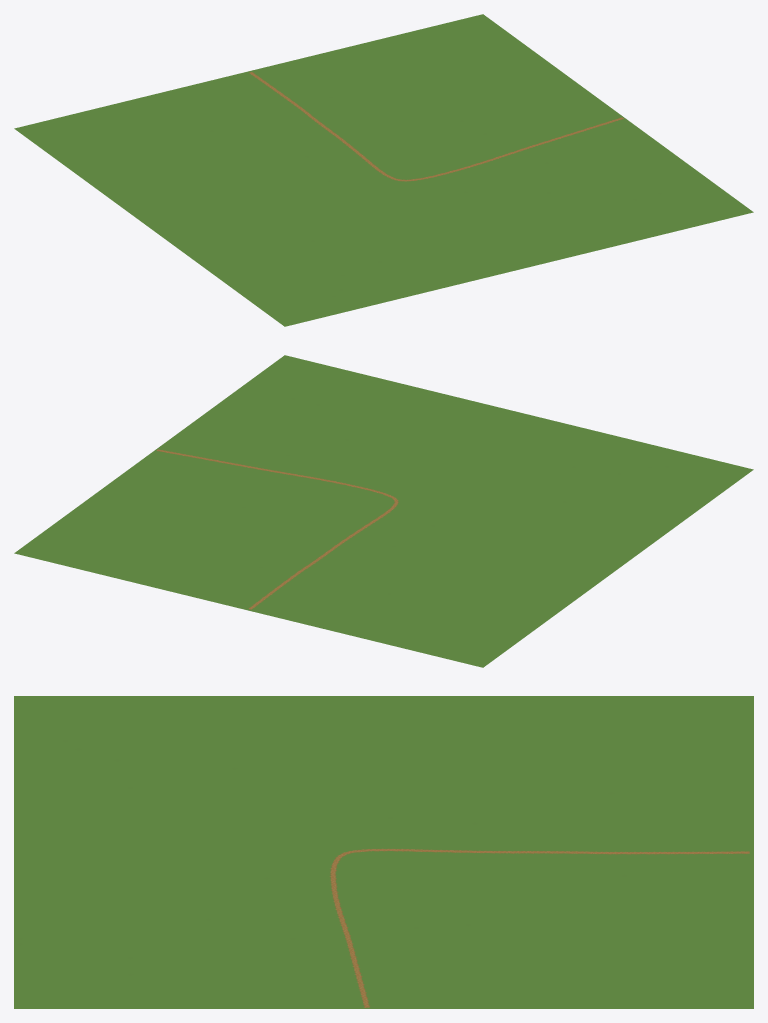
File: path_intro1d.fbx
3 views of the same model, one above another, from view 1: azimuth 30°, elevation 25°; view 2: azimuth 150°, elevation 25°; view 3: azimuth 270°, elevation 25° (orthographic). The views are drawn at different scales.
Visible parts, largest first — view 1: groundPlaneBase, pathBase_lvl1; view 2: groundPlaneBase, pathBase_lvl1; view 3: groundPlaneBase, pathBase_lvl1.
Boxes of the visible parts, x1,y1,x2,y2 form: groundPlaneBase: [14, 14, 753, 326]; pathBase_lvl1: [247, 71, 624, 182]; groundPlaneBase: [14, 355, 753, 667]; pathBase_lvl1: [156, 448, 399, 609]; groundPlaneBase: [14, 696, 753, 1008]; pathBase_lvl1: [328, 848, 749, 1007].
Size of the model in its own units: 4576 by 0.8149 by 4576.
